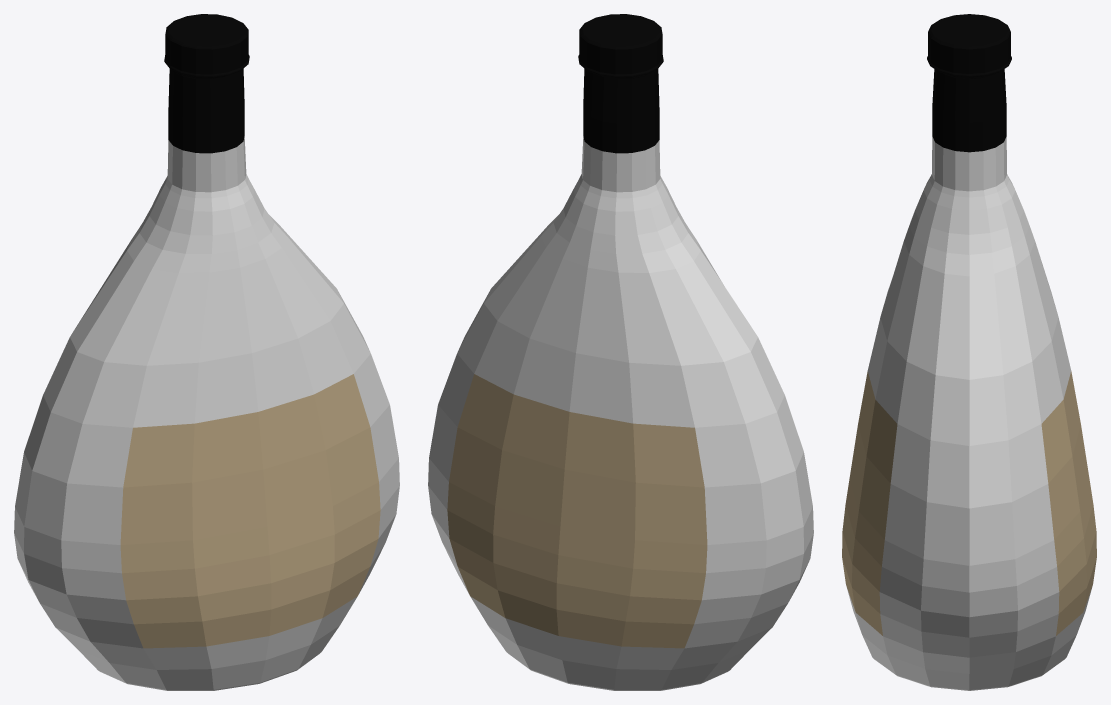
The model's file is Bottle_2_Empty.fbx.
3 views of the same model, side by side, from view 1: azimuth 30°, elevation 25°; view 2: azimuth 150°, elevation 25°; view 3: azimuth 270°, elevation 25° (orthographic).
Parts seen in each view (by area): view 1: Bottle2_Empty; view 2: Bottle2_Empty; view 3: Bottle2_Empty.
Boxes of the visible parts, x1=… form: Bottle2_Empty: x1=14, y1=14, x2=399, y2=690; Bottle2_Empty: x1=428, y1=14, x2=813, y2=690; Bottle2_Empty: x1=842, y1=14, x2=1096, y2=690.
Bounding box in the file's own units: 57.91 × 93.27 × 35.32.
